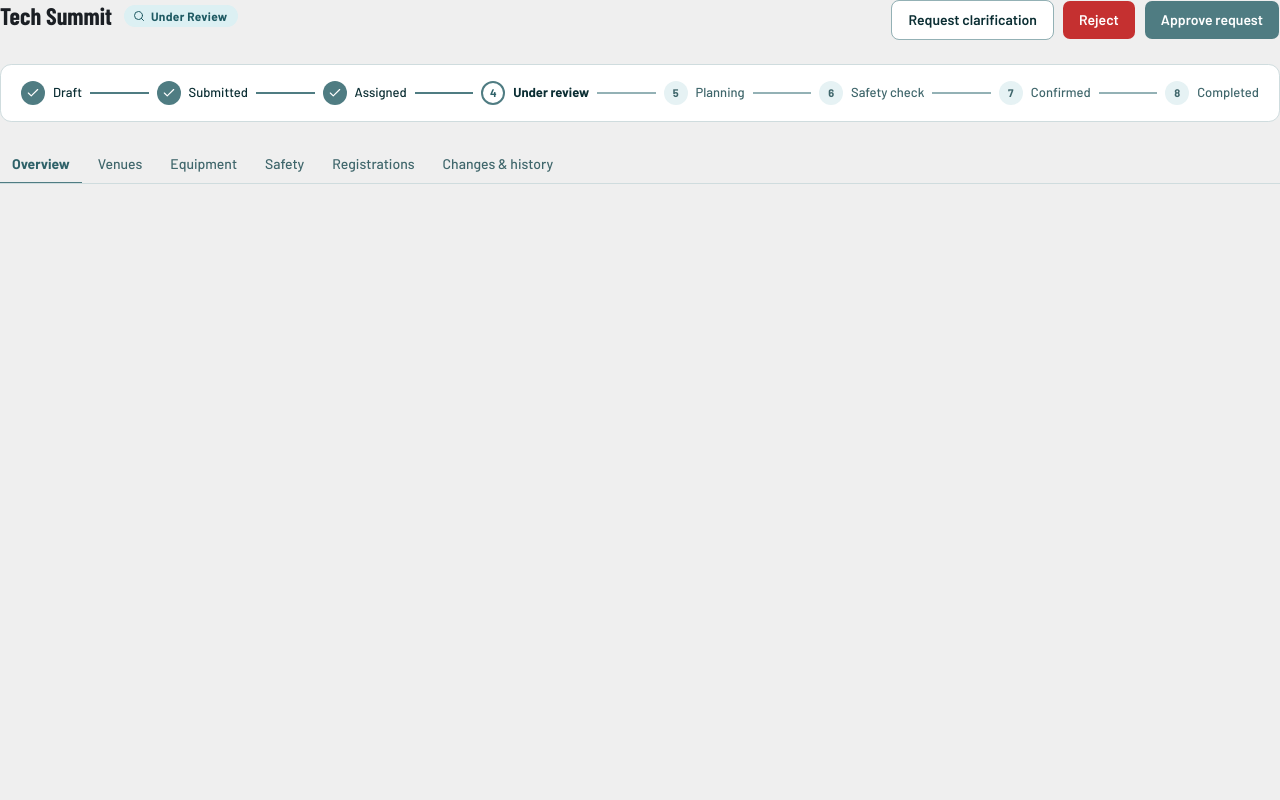
it: SCRUM-24 — Decision on the event page › AC4: shows the new status once the request is approved
This screenshot has width=1280, height=800.
Click the button "Approve request" at (1212, 20), box [1144, 0, 1279, 40]
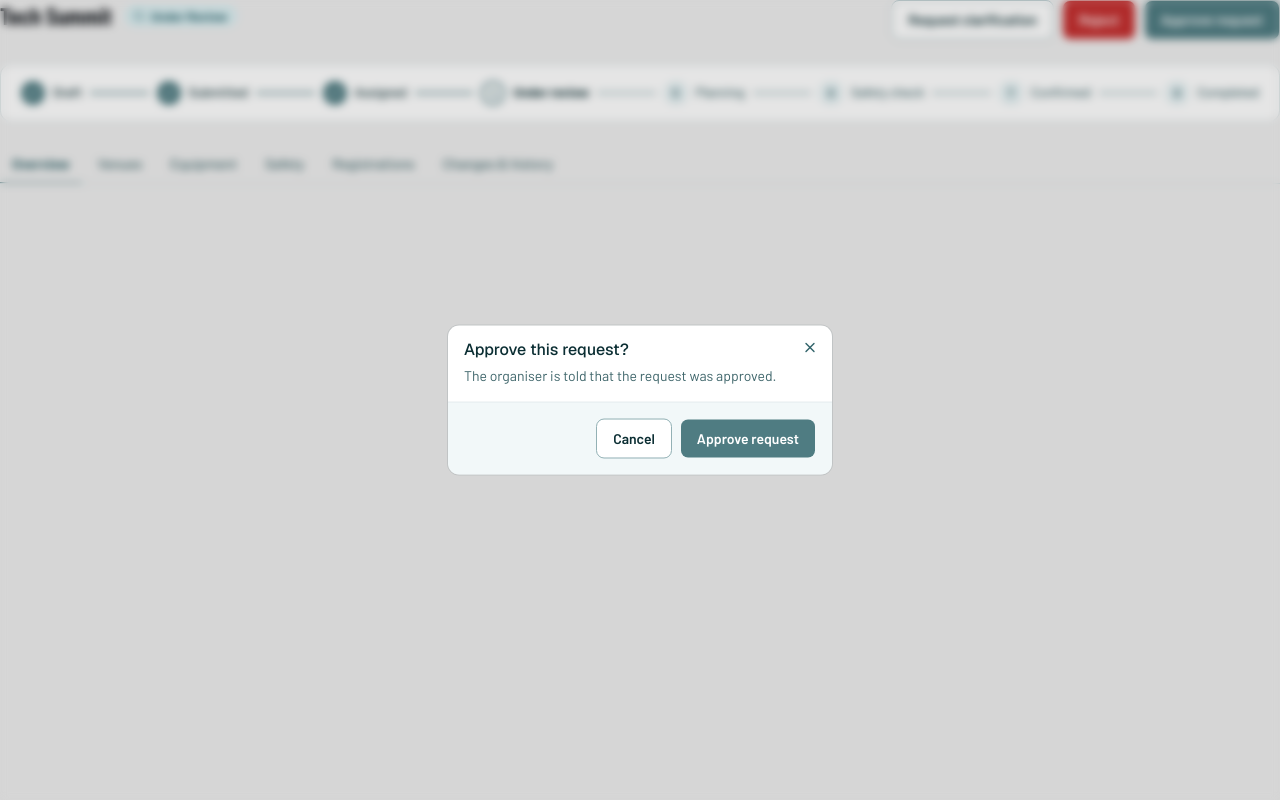
Click the button "Approve request" at (748, 438), box [680, 418, 816, 458]
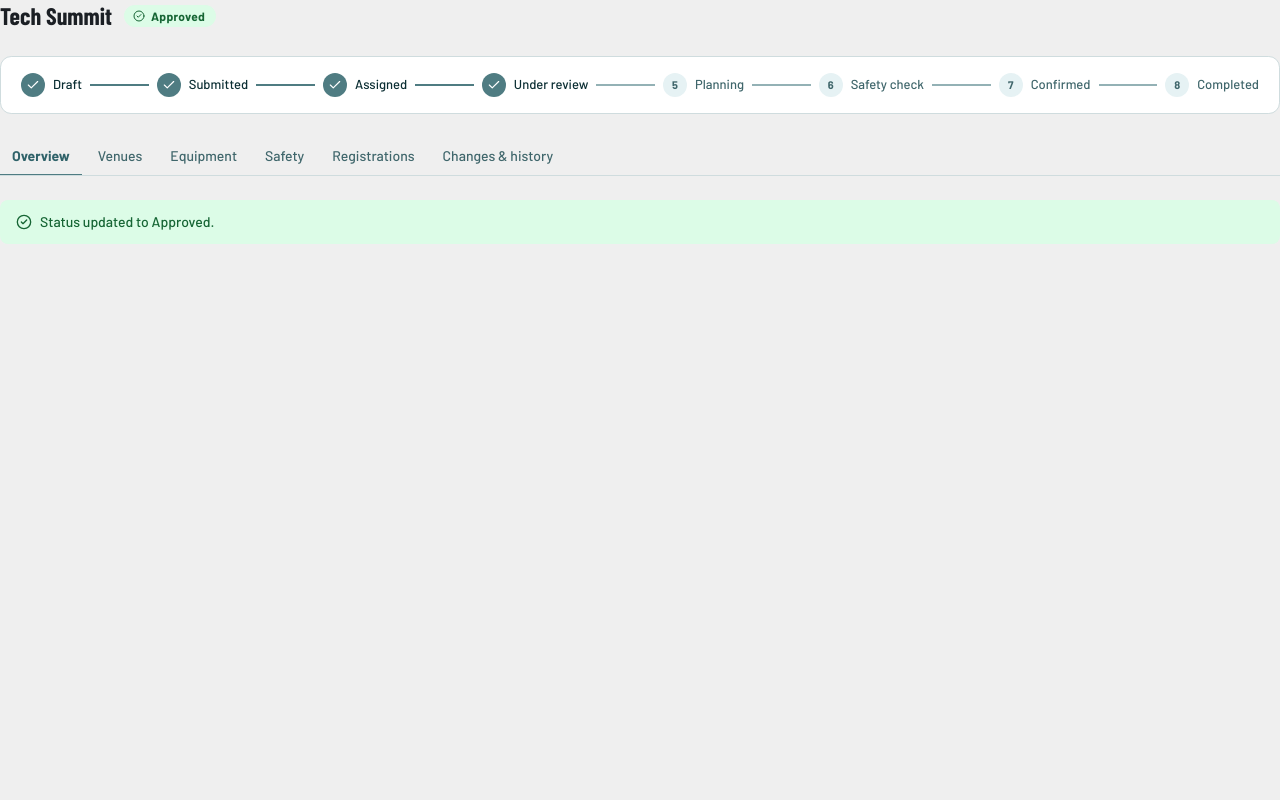
Check: the text "Status updated to Approved." is shown, box [40, 212, 214, 232]
Check: the text "Approved" is shown, box [124, 5, 216, 27]
Check: the button "Approve request" is gone
